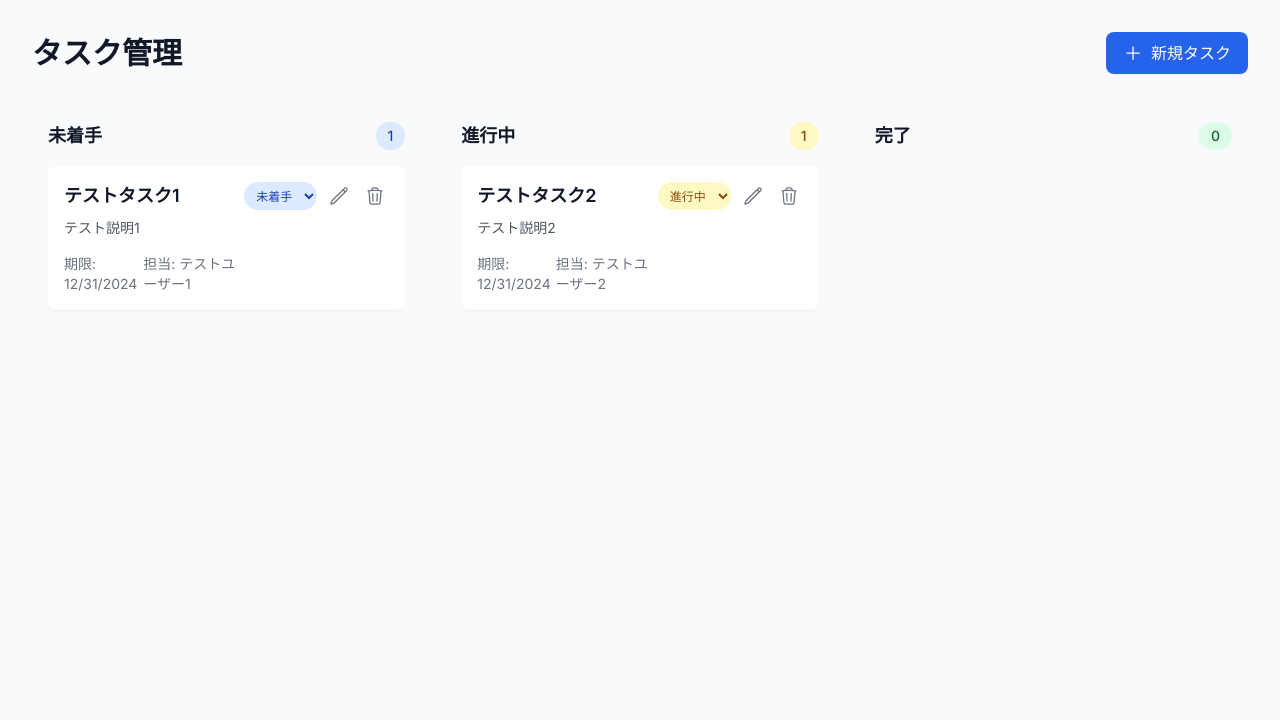
Test: Home › 新規タスク作成フォームが表示される
The width and height of the screenshot is (1280, 720).
Expected: the heading "タスク管理" is shown, x1=32 y1=35 x2=182 y2=71
// 新規タスクボタンをクリック
Click the button "新規タスク" at (1177, 53), box x1=1106 y1=32 x2=1248 y2=74
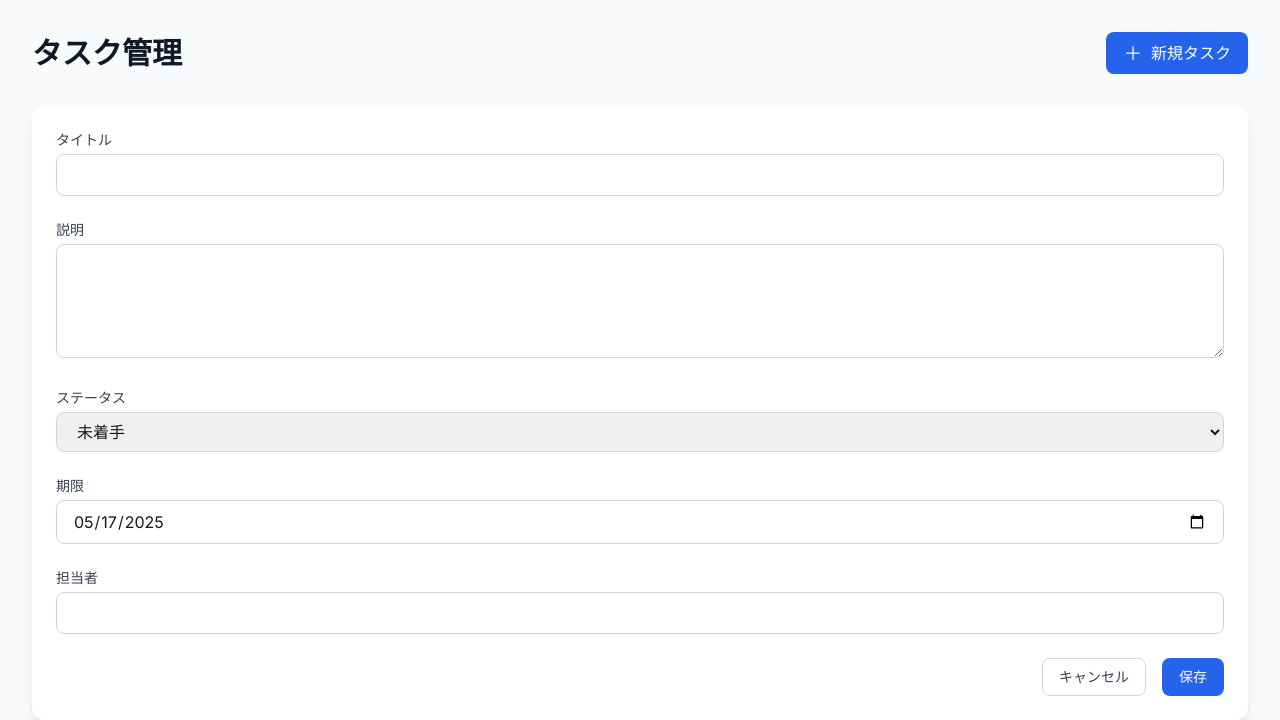
Now the form with test id "task-form" is shown
Now the field labelled "タイトル" is shown, box x1=56 y1=154 x2=1224 y2=196
Now the text box labelled "説明" is shown, box x1=56 y1=244 x2=1224 y2=358
